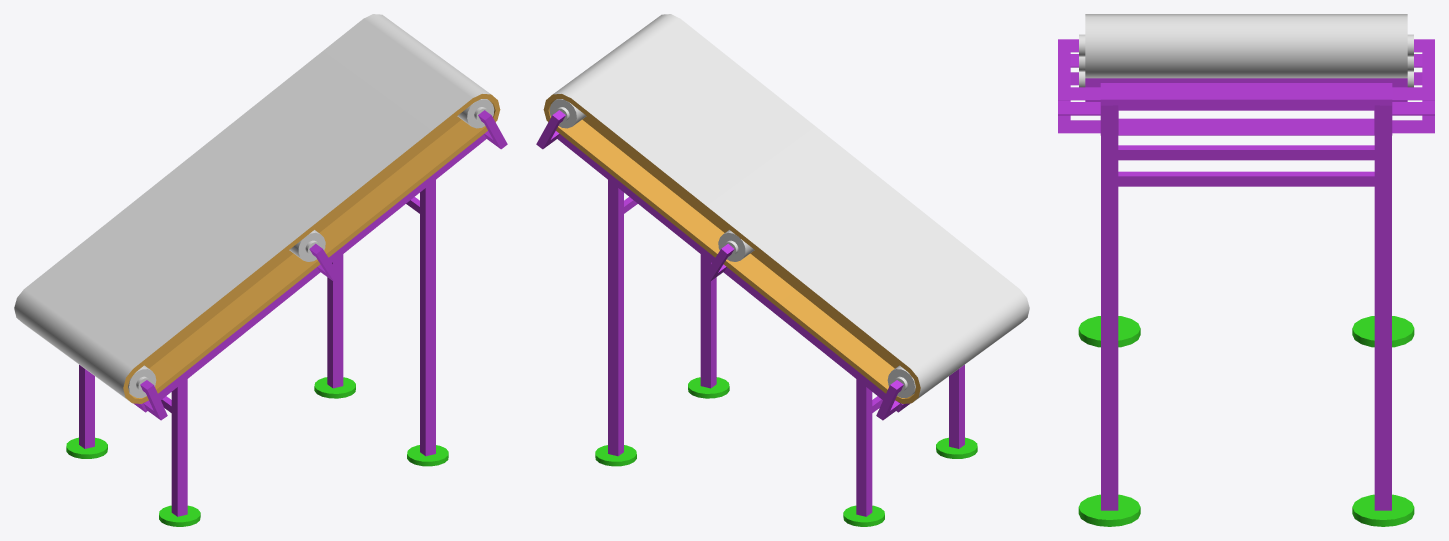
Rendered from mesh_conveyorBelt05.fbx.
3 renders of one model, left to right at view 1: azimuth 30°, elevation 25°; view 2: azimuth 150°, elevation 25°; view 3: azimuth 270°, elevation 25°, orthographic. The views are drawn at different scales.
Visible parts, largest first — view 1: mesh_conveyorBelt05; view 2: mesh_conveyorBelt05; view 3: mesh_conveyorBelt05.
Boxes of the visible parts, <box> form: mesh_conveyorBelt05: <box>14,14,507,526</box>; mesh_conveyorBelt05: <box>536,14,1029,526</box>; mesh_conveyorBelt05: <box>1058,14,1434,526</box>.
Size of the model in its own units: 200 by 181 by 117.
